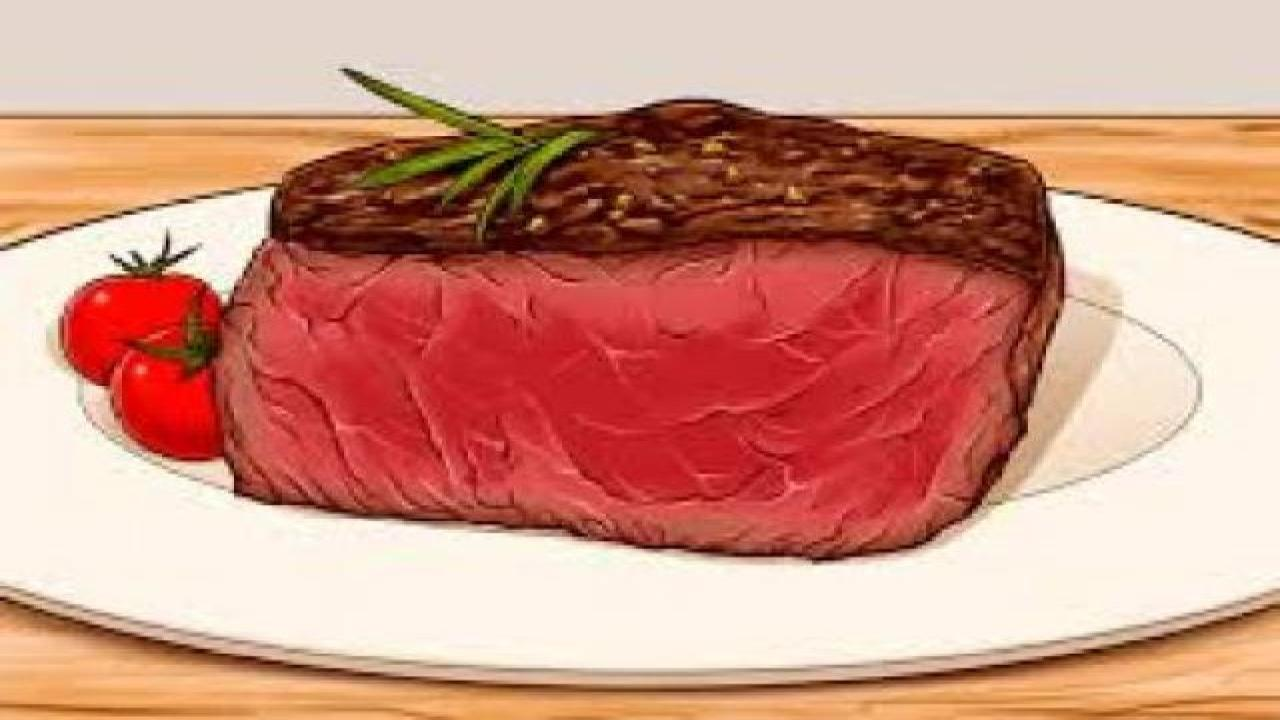raw: (71, 222, 1092, 606)
